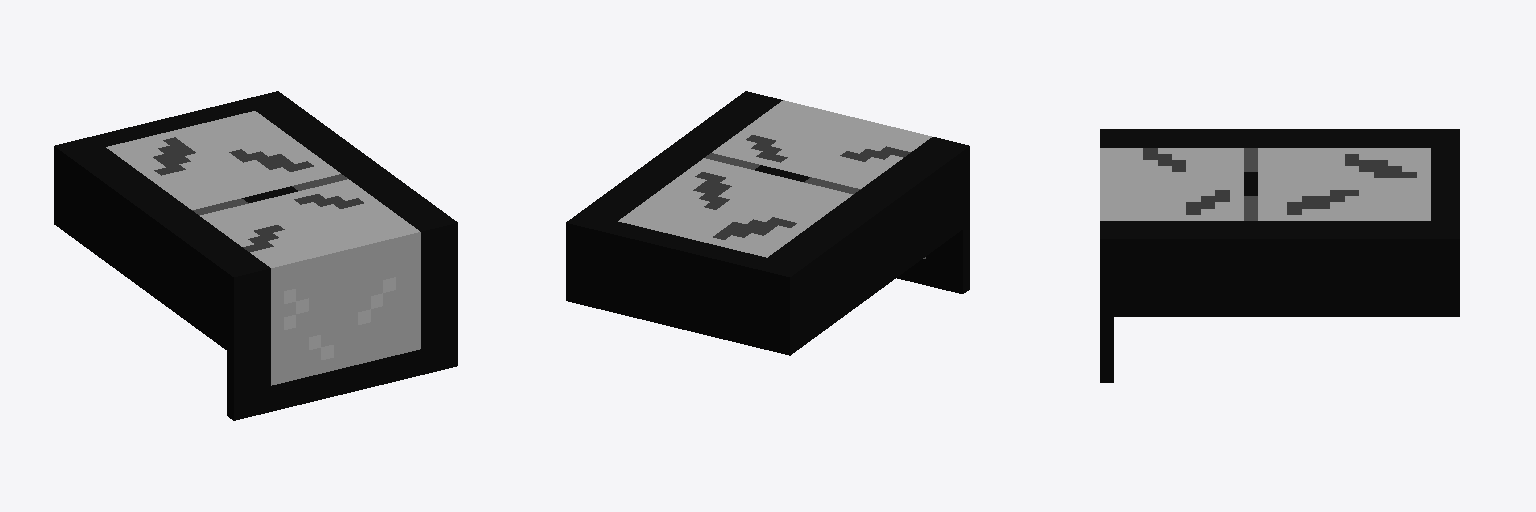
3 views of the same model, side by side, from view 1: azimuth 30°, elevation 25°; view 2: azimuth 150°, elevation 25°; view 3: azimuth 270°, elevation 25° (orthographic).
Parts seen in each view (by area): view 1: object 1; view 2: object 1; view 3: object 1.
Part boxes in pixels (x1,y1,x2,y2): object 1: (54, 91, 457, 420); object 1: (566, 91, 969, 355); object 1: (1100, 129, 1459, 382).
Bounding box in the file's own units: 1.8 × 1.1 × 2.5.
1 materials, 1 textured.